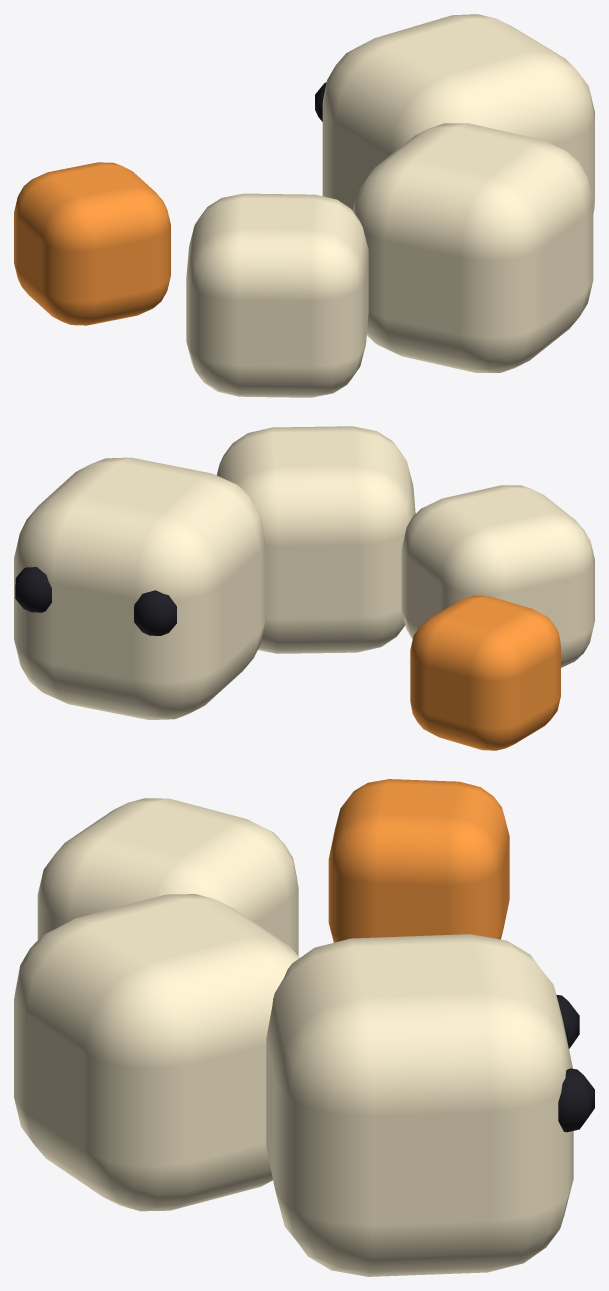
The model's file is grub_glow.glb.
3 views of the same model, one above another, from view 1: azimuth 30°, elevation 25°; view 2: azimuth 150°, elevation 25°; view 3: azimuth 270°, elevation 25° (orthographic). The views are drawn at different scales.
Visible parts, largest first — view 1: grub_glow; view 2: grub_glow; view 3: grub_glow.
Boxes of the visible parts, box(x1,y1,x2,y2) form: grub_glow: box(14, 14, 594, 397); grub_glow: box(14, 426, 594, 750); grub_glow: box(14, 779, 594, 1276).
Size of the model in its own units: 0.7552 by 0.29 by 0.5628.
